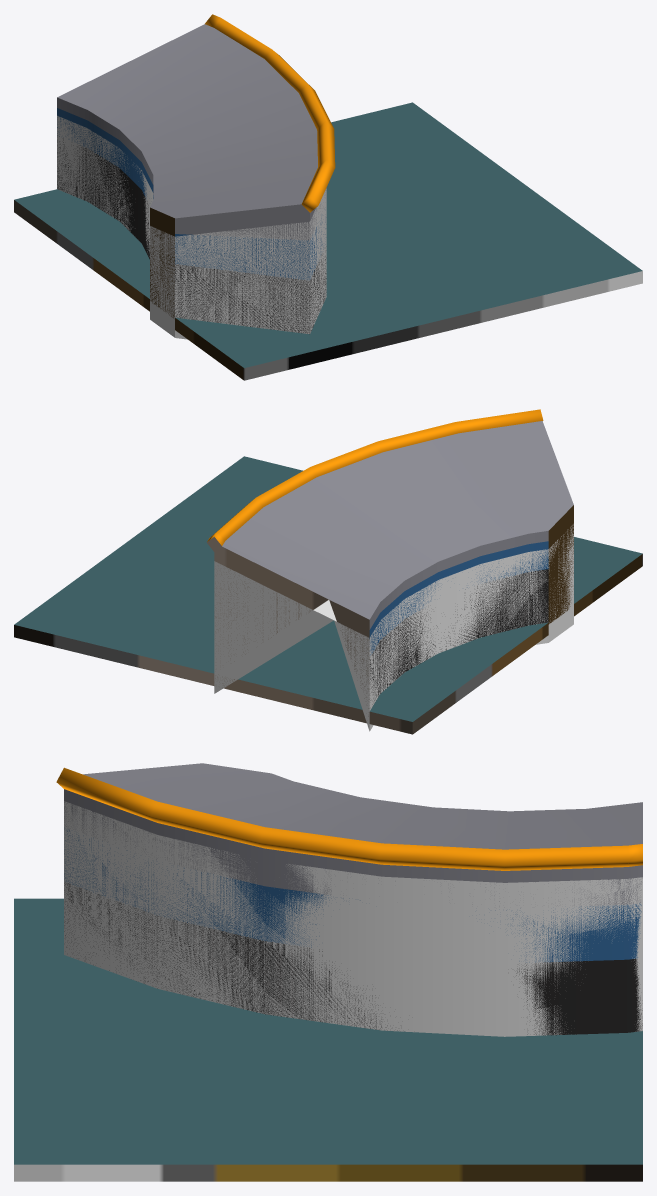
File: tile_3_0_9.gltf
The picture shows the model from 3 angles, top to bottom: view 1: azimuth 30°, elevation 25°; view 2: azimuth 150°, elevation 25°; view 3: azimuth 270°, elevation 25°; orthographic projection. The views are drawn at different scales.
Visible parts, largest first — view 1: ground, grindcurve.02, grindcurve.01_curve, grindcurve.004; view 2: grindcurve.02, ground, grindcurve.01_curve, grindcurve.004; view 3: ground, grindcurve.01_curve, grindcurve.02, grindcurve.004.
Part boxes in pixels (box(x1,y1,x2,y2)): ground: box(14, 102, 642, 380); grindcurve.02: box(57, 24, 326, 334); grindcurve.01_curve: box(57, 115, 326, 339); grindcurve.004: box(205, 14, 335, 212); grindcurve.02: box(214, 421, 573, 708); ground: box(14, 456, 642, 734); grindcurve.01_curve: box(214, 524, 573, 731); grindcurve.004: box(207, 409, 543, 551); ground: box(14, 898, 642, 1181); grindcurve.01_curve: box(64, 801, 642, 1036); grindcurve.02: box(64, 763, 642, 1035); grindcurve.004: box(56, 767, 642, 870).
Size of the model in its own units: 8 by 3.02 by 8.
1 material, 1 textured.
